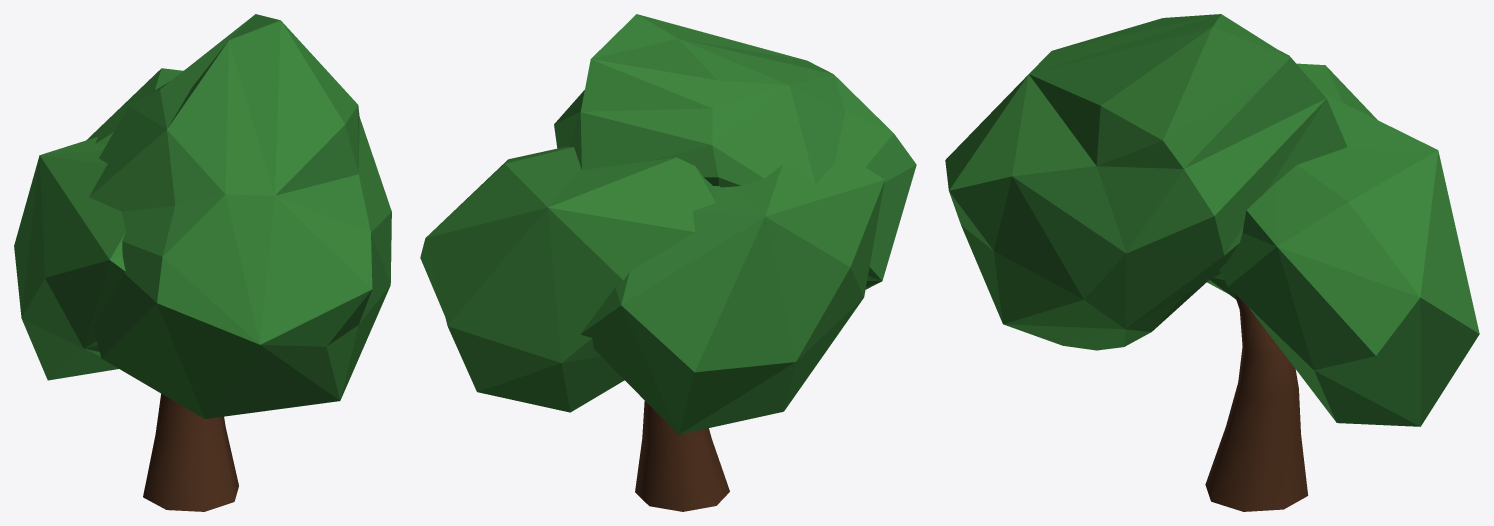
File: tree_2.obj
3 renders of one model, left to right at view 1: azimuth 30°, elevation 25°; view 2: azimuth 150°, elevation 25°; view 3: azimuth 270°, elevation 25°, orthographic. The views are drawn at different scales.
Visible parts, largest first — view 1: tree_2 trees; view 2: tree_2 trees; view 3: tree_2 trees.
Part boxes in pixels (x1,y1,x2,y2): tree_2 trees: (14, 14, 391, 511); tree_2 trees: (420, 14, 916, 511); tree_2 trees: (945, 14, 1479, 511).
Size of the model in its own units: 13.78 by 16.25 by 15.77.
